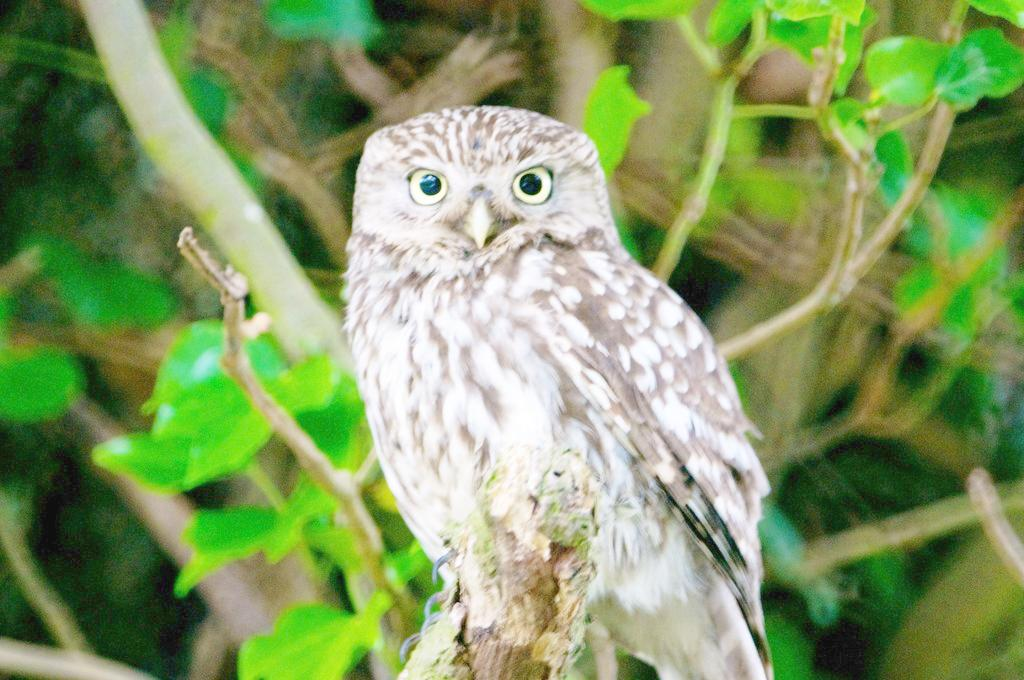Owl: (343, 104, 775, 680)
